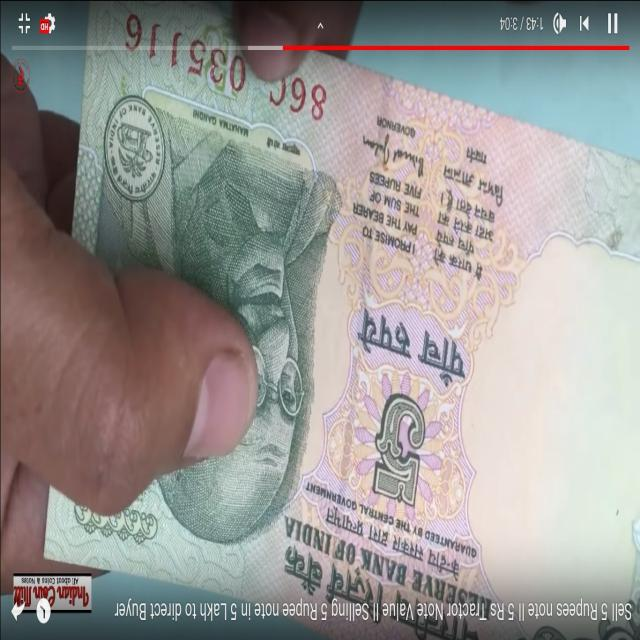5IndianRupees: (63, 69, 640, 638)
